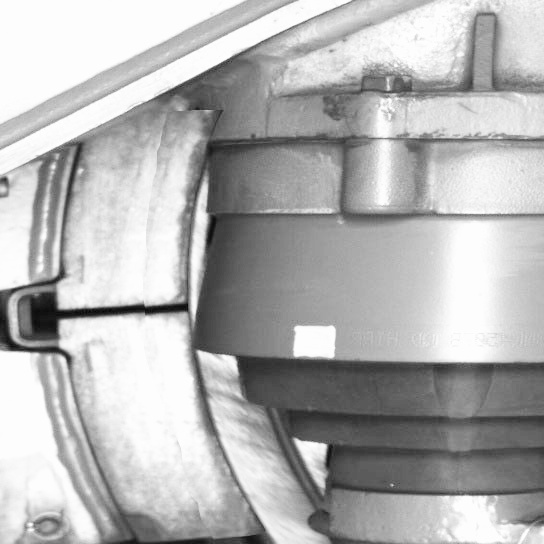ClosedKnifeSwitch: (27, 138, 280, 541)
